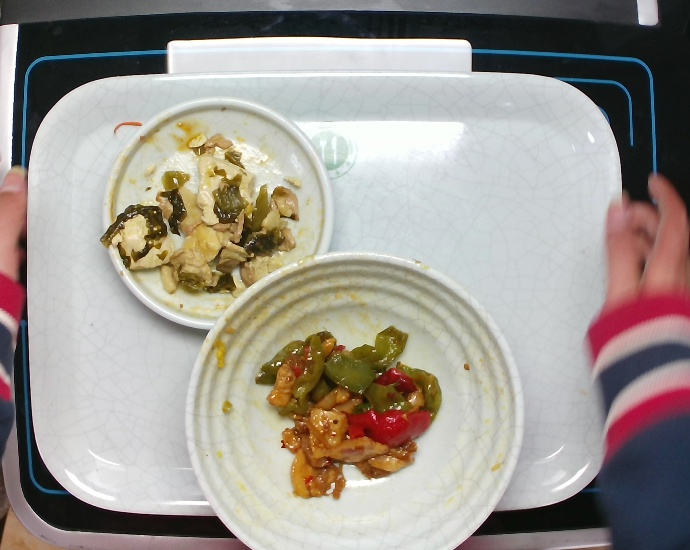JYsf-Da_Tang_Wan: (181, 247, 527, 549)
JYsf-Xiao_Yuan_Pan: (101, 95, 334, 330)
